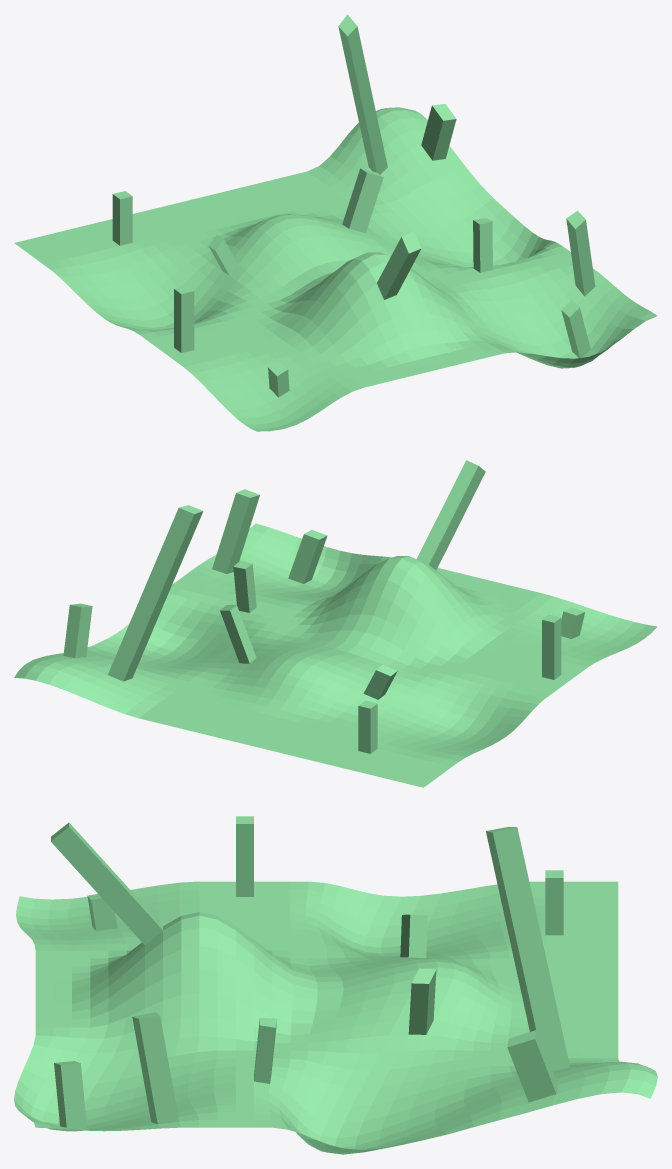
File: map.glb
3 renders of one model, top to bottom at view 1: azimuth 30°, elevation 25°; view 2: azimuth 150°, elevation 25°; view 3: azimuth 270°, elevation 25°, orthographic. The views are drawn at different scales.
Parts seen in each view (by area): view 1: map; view 2: map; view 3: map.
Part boxes in pixels (x1,y1,x2,y2): map: [14, 14, 657, 431]; map: [14, 460, 657, 787]; map: [14, 816, 657, 1154].
Size of the model in its own units: 12.59 by 6.47 by 13.7.
